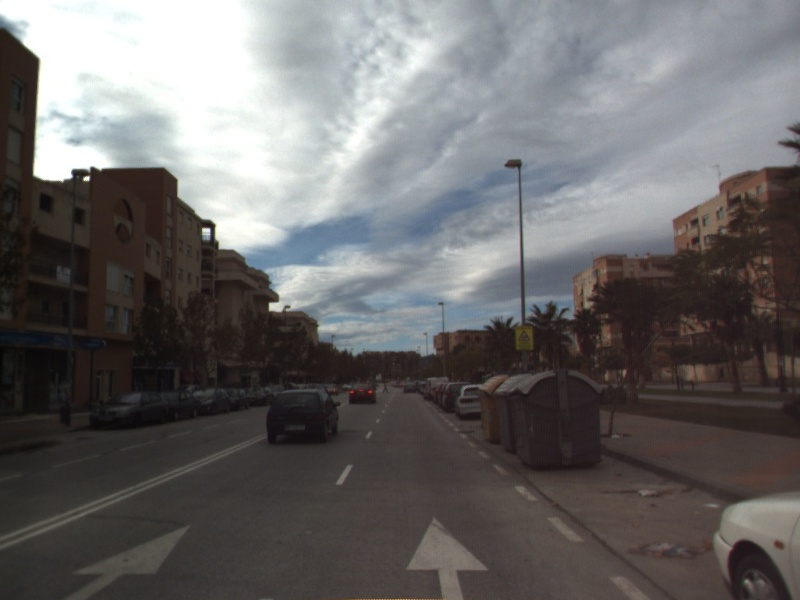STRAIGHT: (58, 523, 193, 600), (404, 514, 490, 600)
